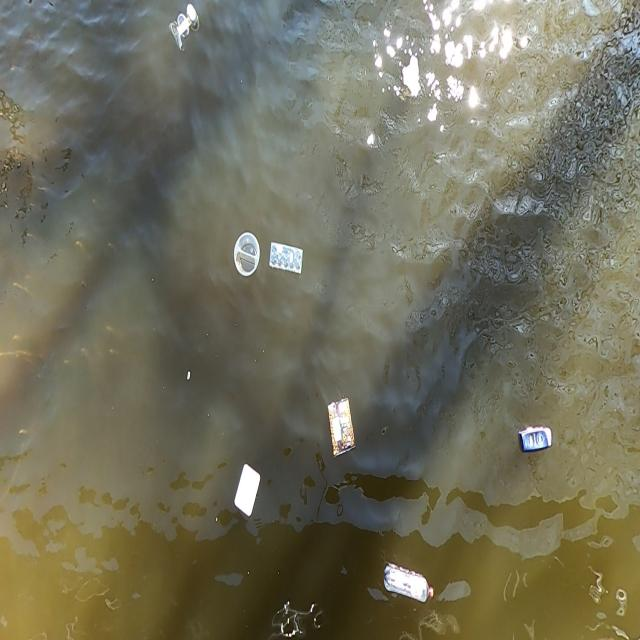Autre plastique: (518, 428, 554, 457)
Bouteille plastique: (382, 562, 436, 609)
